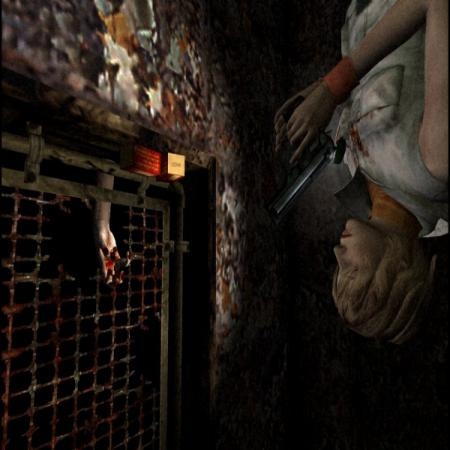Pistol: (262, 103, 340, 220)
